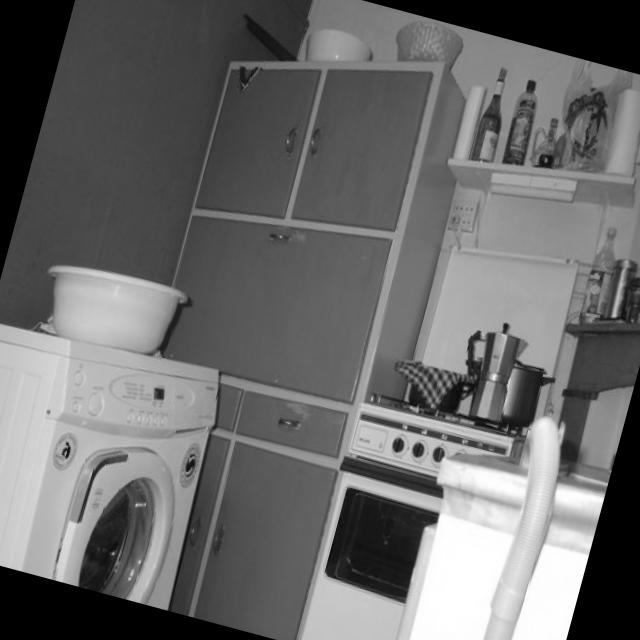Bottle: (473, 68, 507, 160)
Drawer: (235, 389, 348, 457)
Handle: (278, 415, 301, 429)
bottle crop: (505, 77, 542, 164)
bowl -X: (46, 259, 194, 351), (306, 27, 376, 78), (396, 20, 464, 71)
cabinet: (158, 214, 395, 402), (194, 439, 339, 640), (290, 68, 434, 230), (196, 68, 322, 217)
coffee pot: (461, 314, 533, 423)
handle bar: (311, 127, 324, 158), (285, 126, 298, 157), (213, 525, 226, 556), (190, 515, 202, 547), (269, 231, 290, 242)
lamp crop: (490, 172, 580, 204)
oil bottle: (575, 222, 625, 323)
outlet: (445, 194, 480, 232)
paper towel dispenser: (605, 82, 640, 182)
pipe: (475, 414, 570, 640)
pot hanger: (508, 361, 544, 426)
stove burner: (298, 248, 578, 640)
tin box: (612, 250, 640, 326)
washing machine crop: (0, 325, 216, 608)
